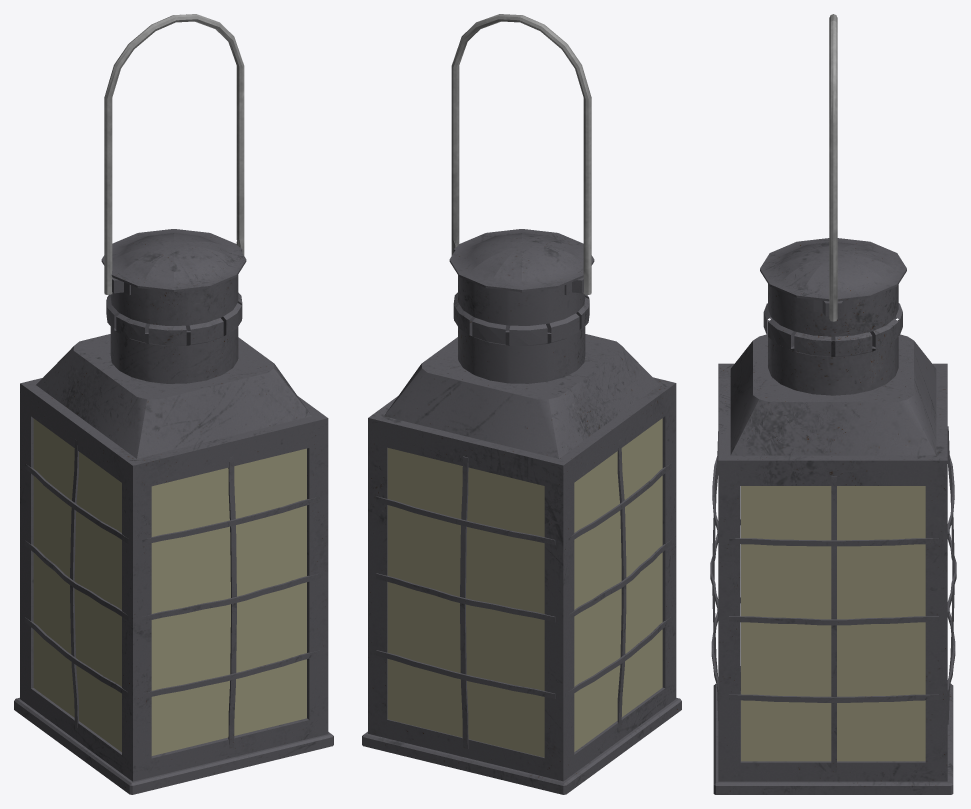
The model's file is oil_lamp.fbx.
The picture shows the model from 3 angles, left to right: view 1: azimuth 30°, elevation 25°; view 2: azimuth 150°, elevation 25°; view 3: azimuth 270°, elevation 25°; orthographic projection.
Parts seen in each view (by area): view 1: Sphere_1; view 2: Sphere_1; view 3: Sphere_1.
Boxes of the visible parts, bbox=[...] form: Sphere_1: bbox=[14, 14, 333, 794]; Sphere_1: bbox=[362, 14, 681, 794]; Sphere_1: bbox=[710, 14, 956, 794].
Bounding box in the file's own units: 17.13 × 55.54 × 17.13.
3 materials, 2 textured.
